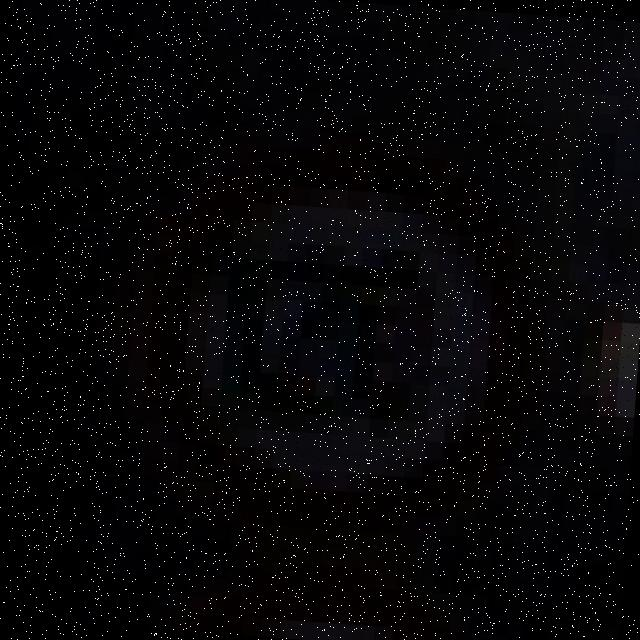Ograniczenie predkosci do 120: (136, 138, 533, 543)
